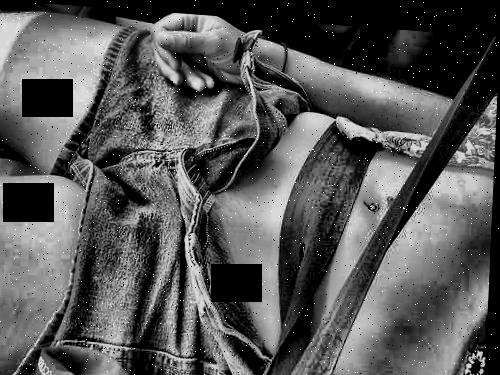seatbelt: (261, 49, 490, 358)
